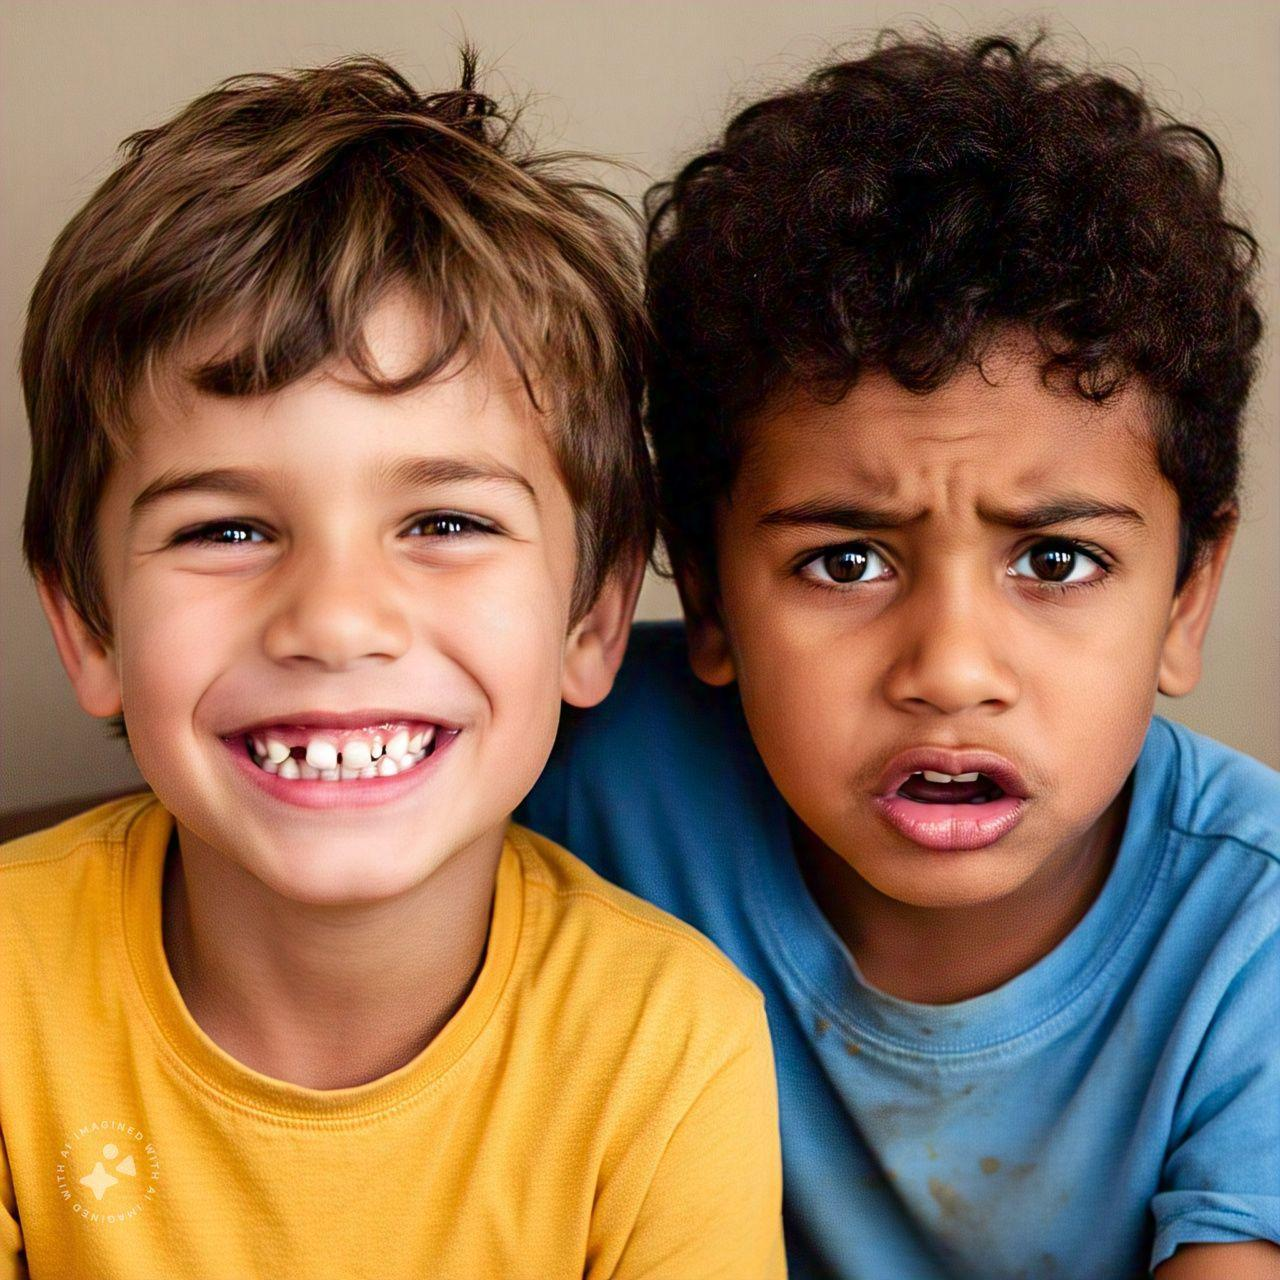feliz: (84, 173, 580, 878)
surpreso: (696, 226, 1196, 910)
